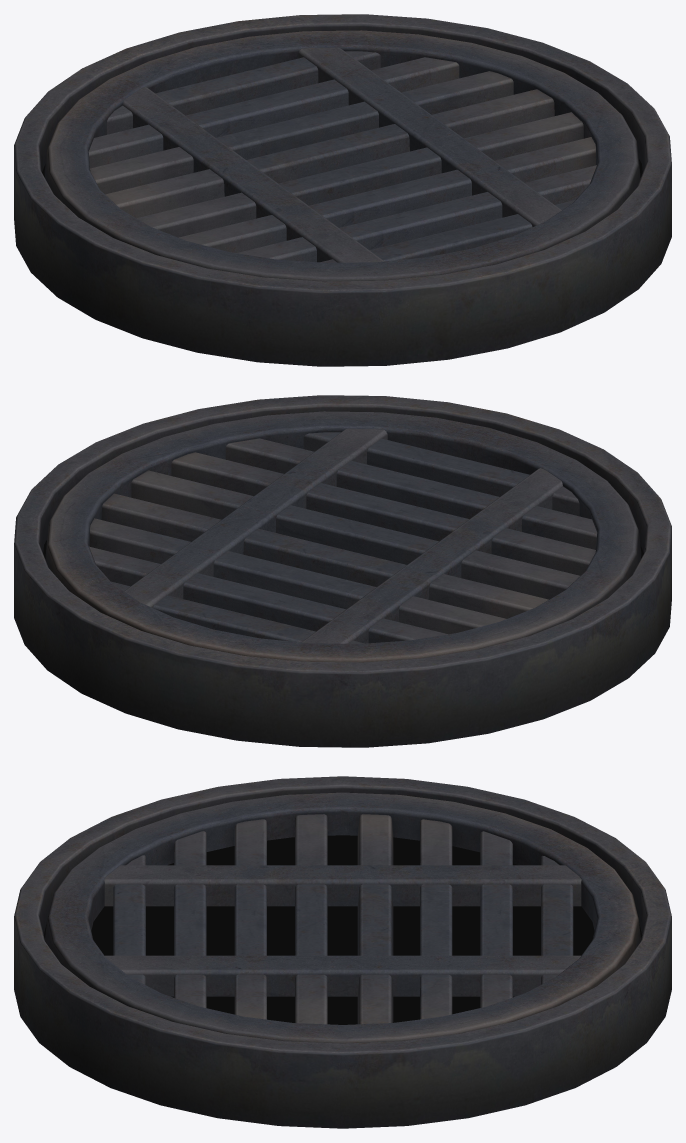
File: Storm_Drain.glb
The picture shows the model from 3 angles, top to bottom: view 1: azimuth 30°, elevation 25°; view 2: azimuth 150°, elevation 25°; view 3: azimuth 270°, elevation 25°; orthographic projection.
Visible parts, largest first — view 1: Storm_Drain__LOD3; view 2: Storm_Drain__LOD3; view 3: Storm_Drain__LOD3.
Boxes of the visible parts, bbox=[...] form: Storm_Drain__LOD3: bbox=[14, 14, 671, 366]; Storm_Drain__LOD3: bbox=[14, 395, 671, 747]; Storm_Drain__LOD3: bbox=[14, 776, 671, 1128].
Bounding box in the file's own units: 0.7785 × 0.0987 × 0.7785.
Materials: 1 (1 with a texture image).
